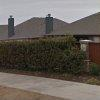Chimney: (40, 10, 61, 45)
